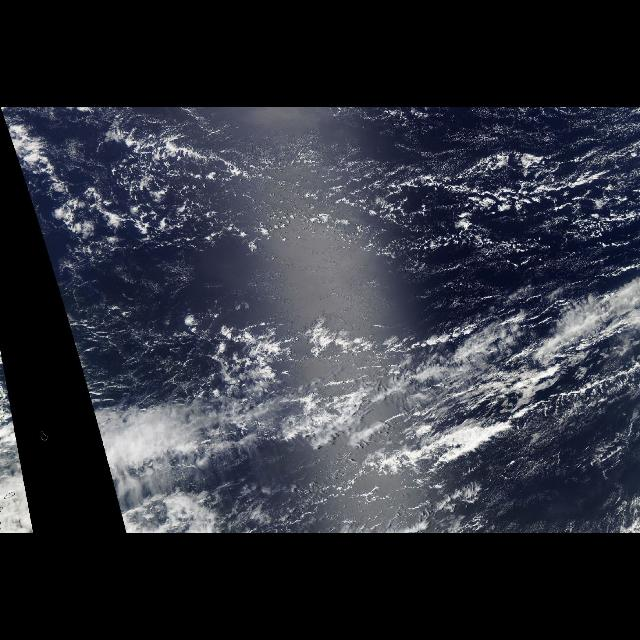Gravel: (68, 132, 636, 250)
Sugar: (71, 118, 636, 300)
